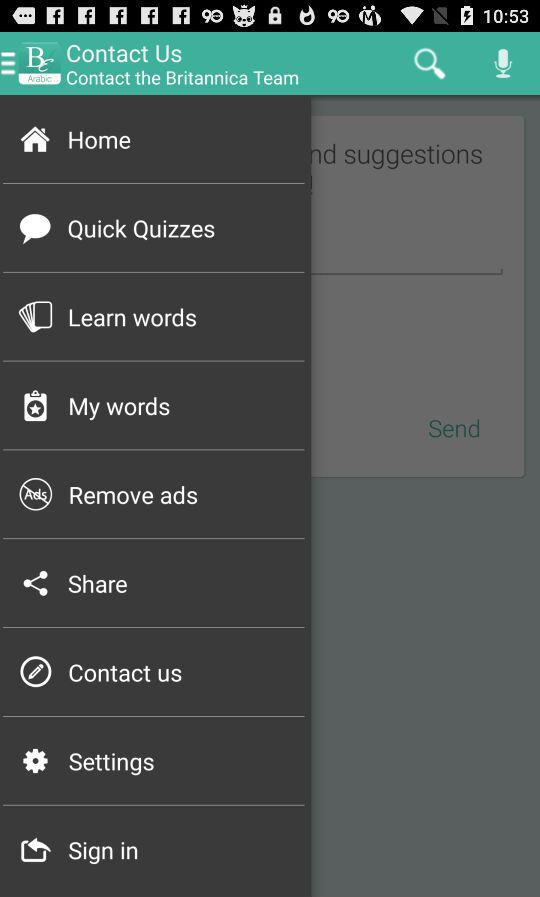Drawer: (1, 96, 312, 897)
Icon: (20, 655, 53, 689), (19, 214, 53, 246), (413, 48, 445, 81), (21, 126, 52, 154), (24, 389, 49, 423), (21, 837, 53, 863), (23, 570, 50, 598), (23, 748, 50, 774), (493, 49, 513, 80), (1, 51, 16, 76)
Image: (16, 42, 62, 86), (19, 478, 54, 513), (19, 301, 54, 335)
Text: (66, 71, 300, 88), (68, 219, 216, 243), (69, 308, 198, 329), (70, 396, 171, 422), (69, 486, 199, 506), (69, 663, 184, 684), (67, 44, 183, 64), (69, 752, 156, 777), (69, 841, 139, 866), (68, 574, 129, 595), (69, 131, 132, 151)
Toolbar: (1, 33, 540, 96)
UpperTaskBar: (1, 1, 540, 33)
